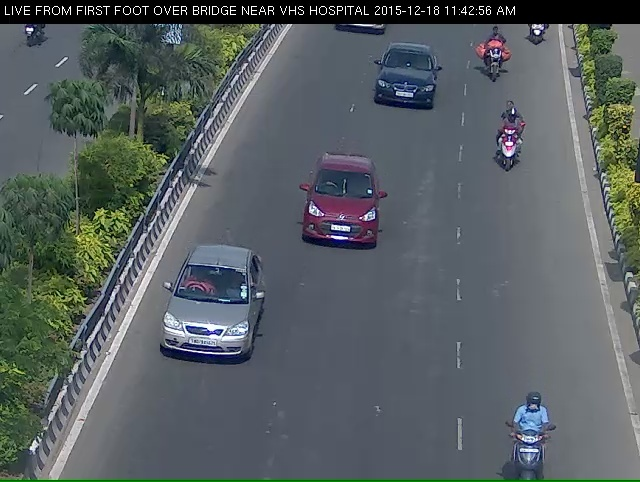Car: (139, 267, 271, 386), (291, 158, 386, 265), (361, 47, 440, 126)
Person: (500, 420, 572, 480), (489, 105, 531, 181), (479, 38, 511, 84)
